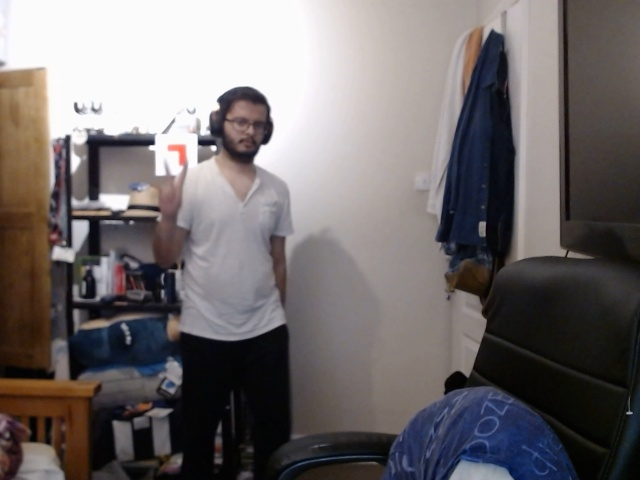Peace: (147, 152, 195, 220)
